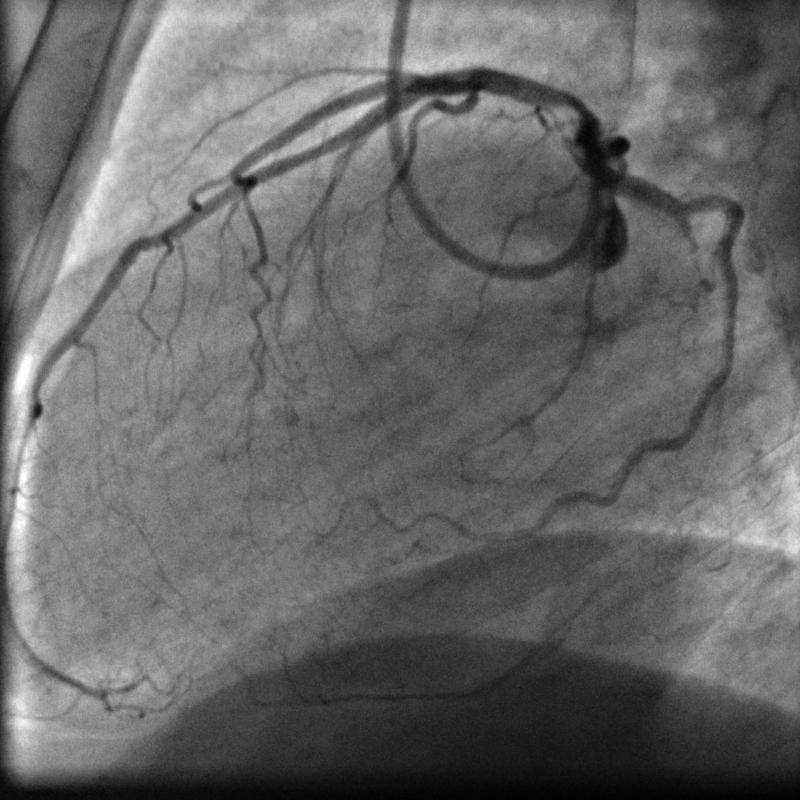Stenosis: (443, 60, 491, 110)
